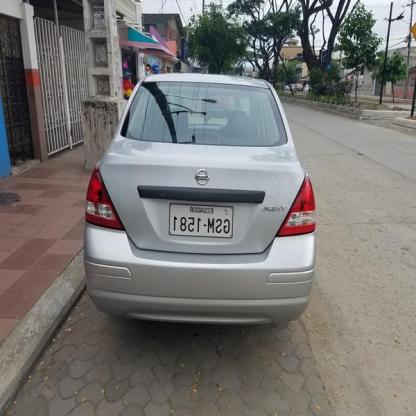Placa: (165, 200, 236, 240)
